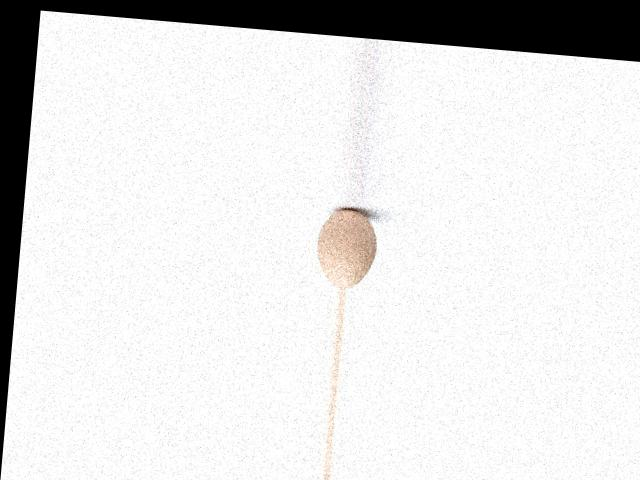egg: (314, 206, 379, 290)
